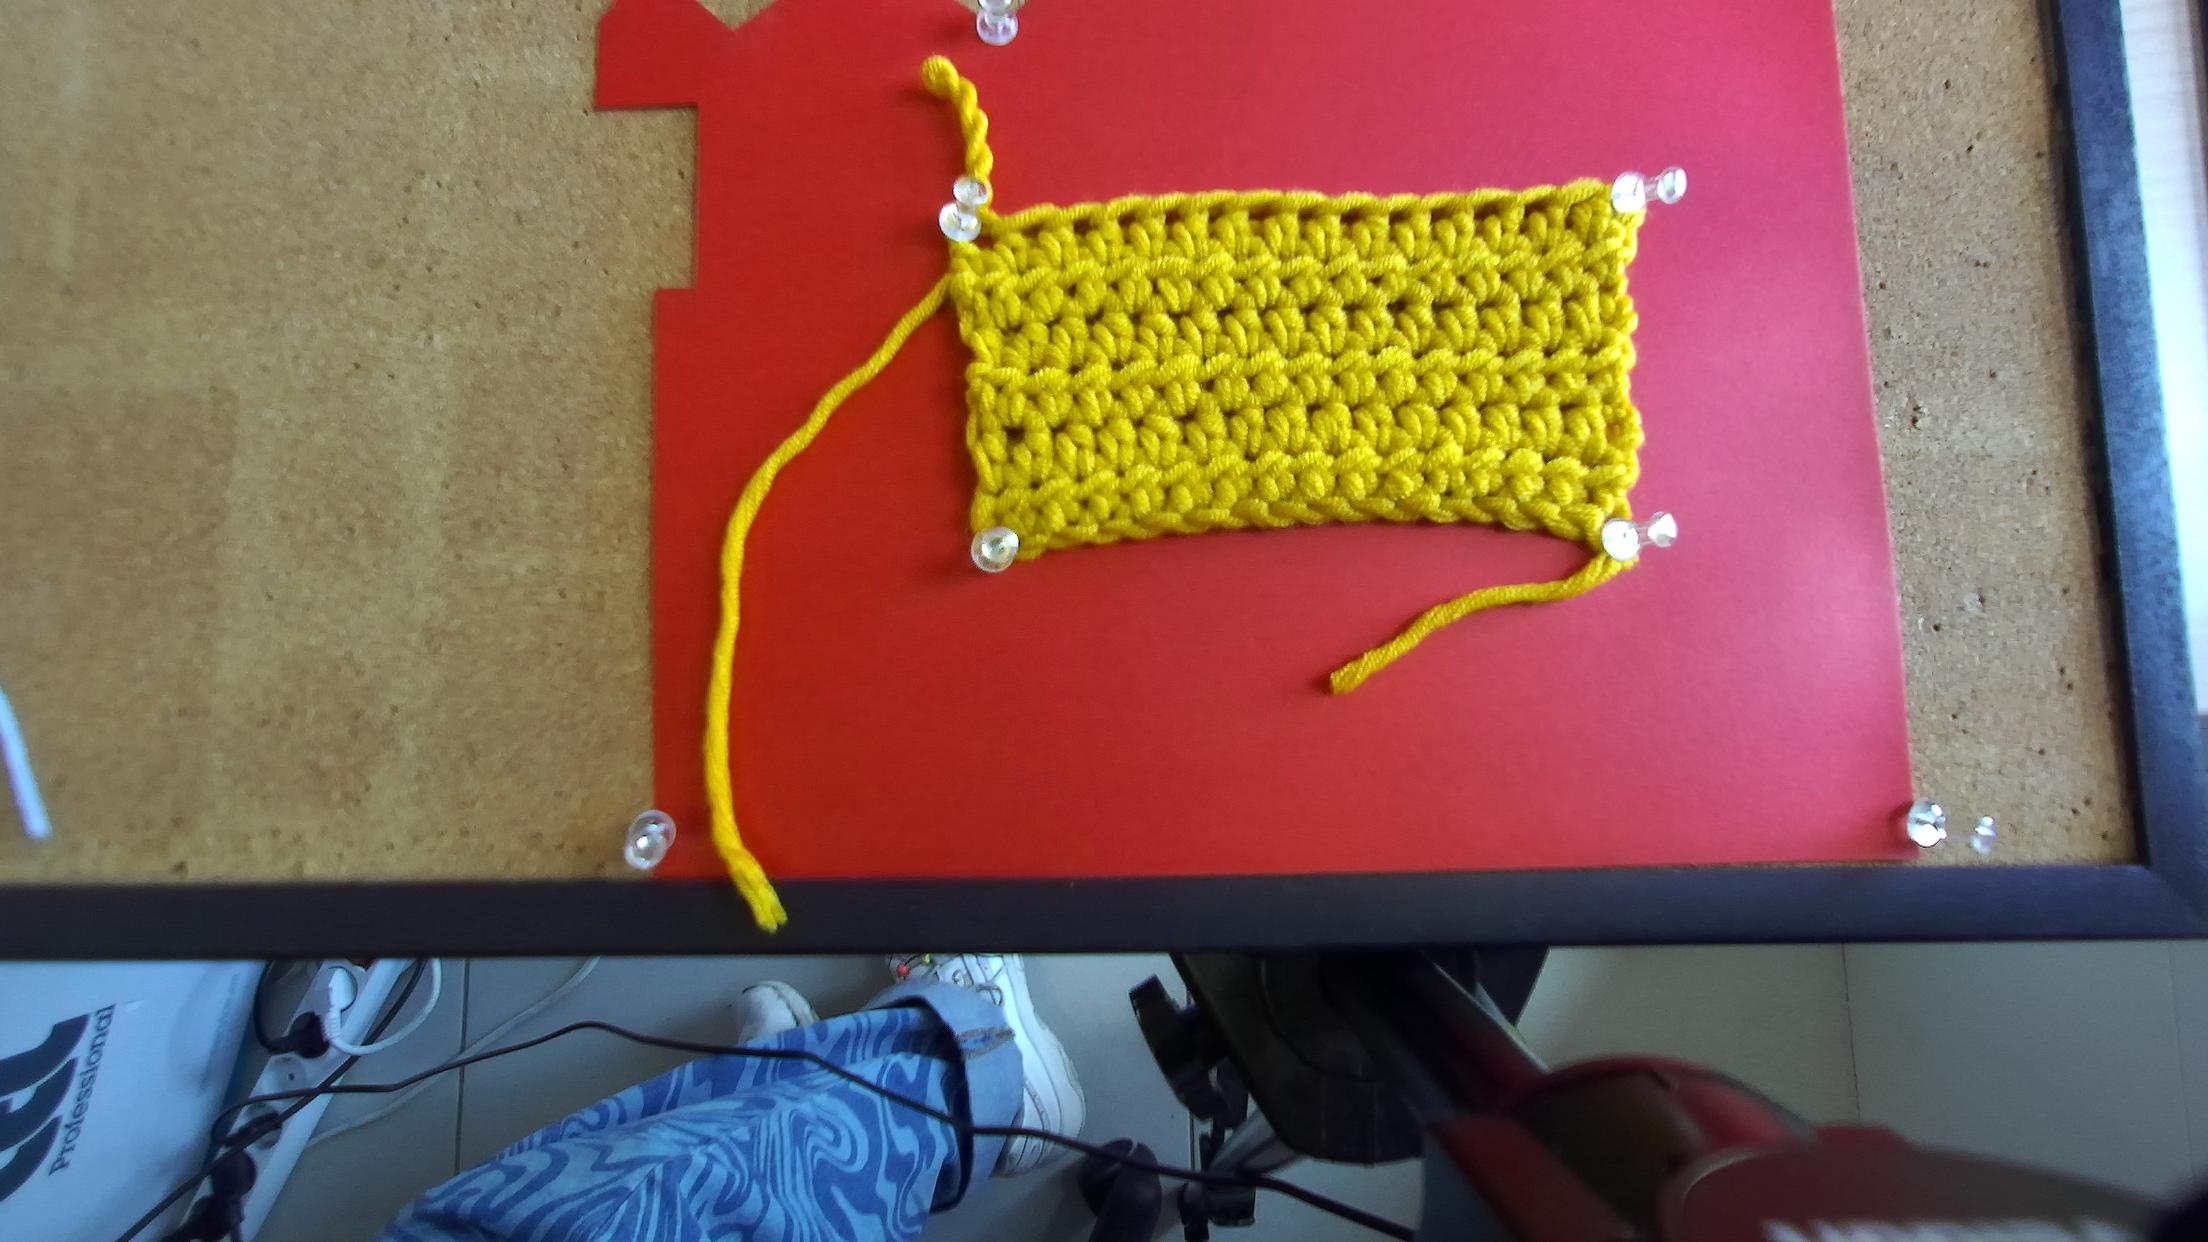hole: (971, 229, 1002, 250), (1247, 202, 1275, 223), (1069, 217, 1096, 238), (1473, 202, 1500, 223), (1019, 218, 1043, 241), (1163, 205, 1186, 229), (1204, 200, 1225, 224), (1115, 209, 1137, 231), (1388, 206, 1409, 227), (1341, 208, 1363, 227), (1570, 196, 1595, 212), (1295, 205, 1318, 223), (1524, 200, 1544, 218), (1430, 206, 1447, 227)
swatch: (939, 177, 1673, 578)
